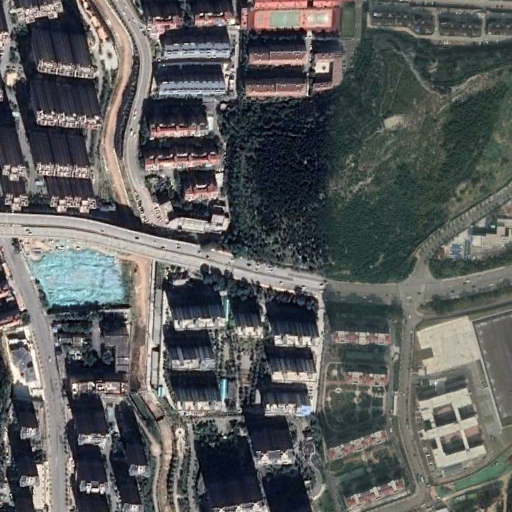cw: (28, 237, 129, 312)
